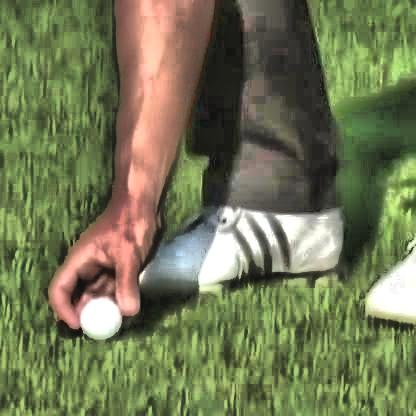golfball: (79, 293, 118, 335)
